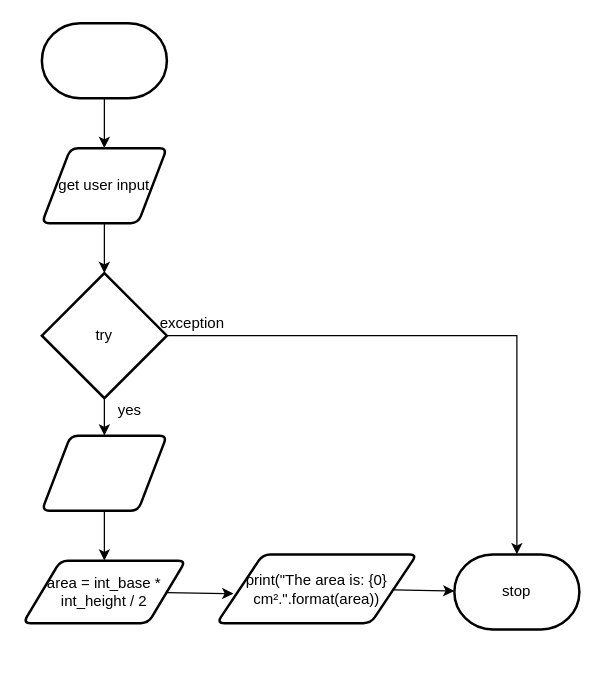
Some shapes in this 601 by 674 pixel diagram are drawn without their labels. Here are the shapes that lost their labels. From the top down, the centre of each, then its label:
At [104,60]: "start".
At [104,472]: "convert str to int".
